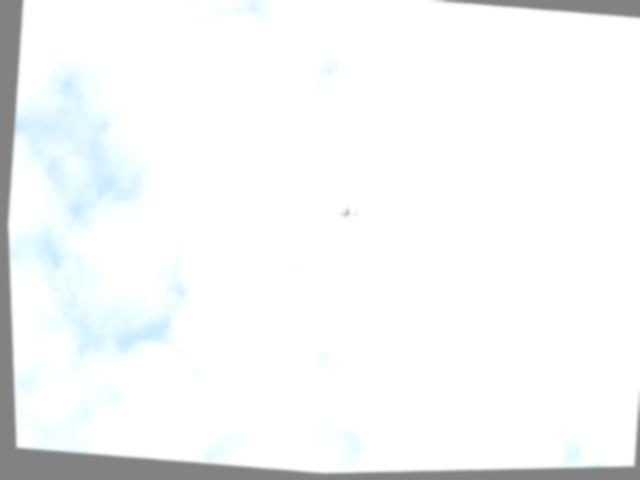uav: (337, 204, 359, 224)
